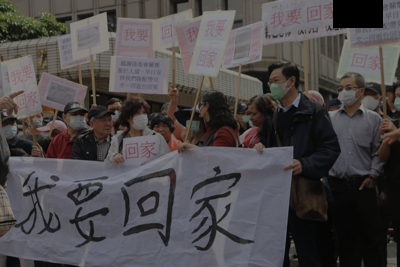with_mask: (337, 83, 361, 107), (267, 76, 288, 101), (362, 90, 381, 111), (131, 109, 149, 131), (68, 112, 87, 131), (185, 115, 203, 135), (1, 121, 18, 142), (27, 112, 45, 131), (107, 106, 124, 123), (197, 103, 208, 126), (241, 111, 251, 124), (394, 92, 400, 111)
without_mask: (95, 115, 114, 137), (154, 122, 171, 142), (249, 110, 263, 129)
